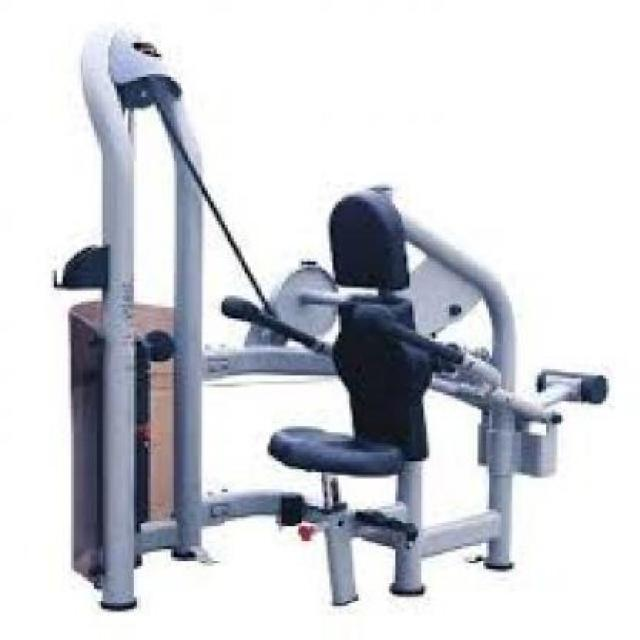seated dip machine: (41, 20, 618, 640)
